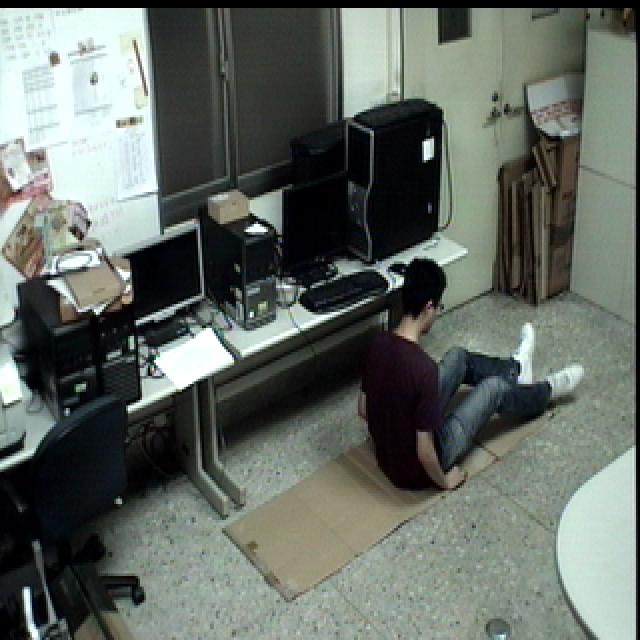sit: (349, 253, 586, 496)
